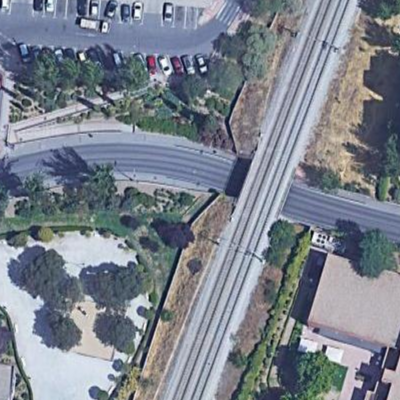tree: (18, 248, 77, 306), (238, 27, 280, 83), (290, 352, 337, 400), (86, 166, 127, 218), (356, 227, 394, 283), (93, 267, 144, 308), (263, 217, 302, 270), (21, 181, 65, 227), (42, 312, 86, 356), (105, 314, 145, 354), (30, 60, 71, 99), (157, 216, 197, 253), (76, 63, 108, 94), (145, 117, 197, 136), (381, 143, 400, 192), (317, 166, 346, 196), (123, 60, 152, 87), (33, 222, 59, 247)
